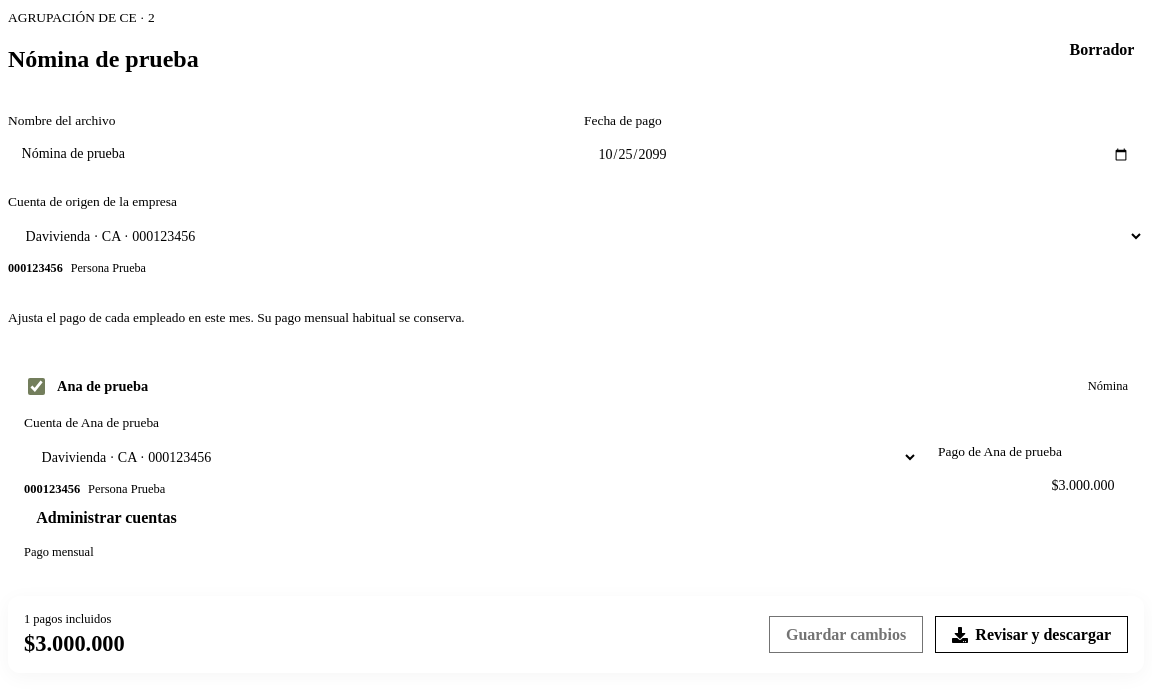
Preparación bancaria › preserva el importe cuando el servidor rechaza el guardado
Replace the text in the field labelled "Pago de Ana de prueba" with "3100000" at (1033,486), box x1=938 y1=468 x2=1128 y2=504
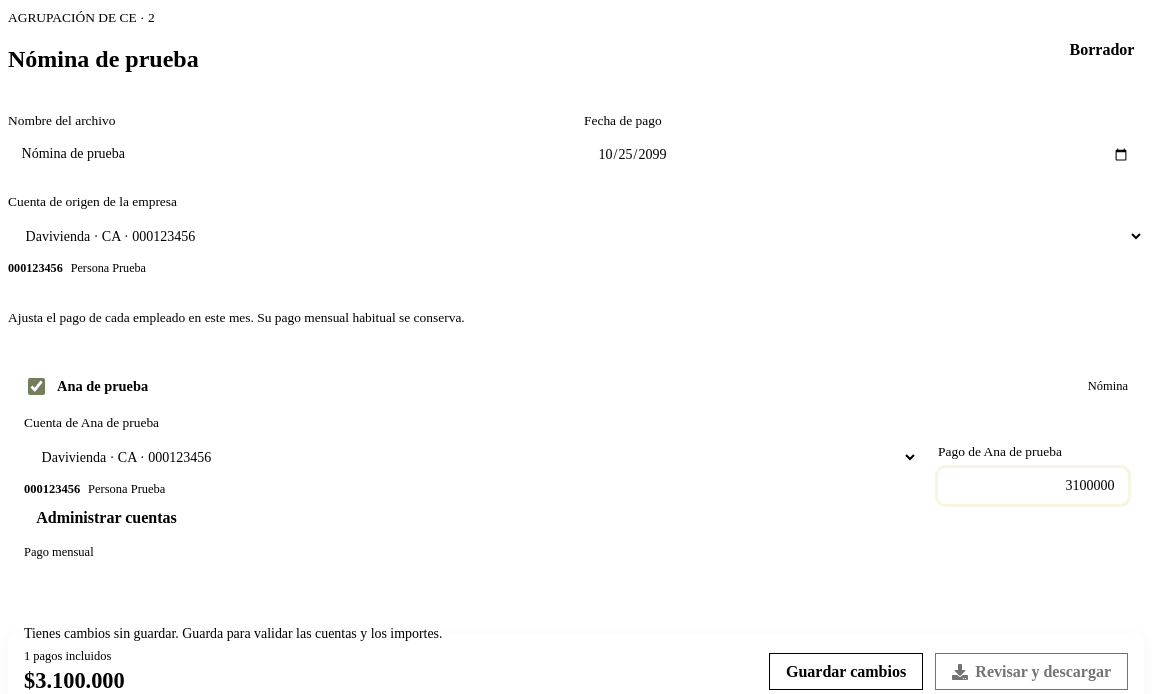
Click the button "Guardar cambios" at (846,672), box x1=769 y1=653 x2=923 y2=690
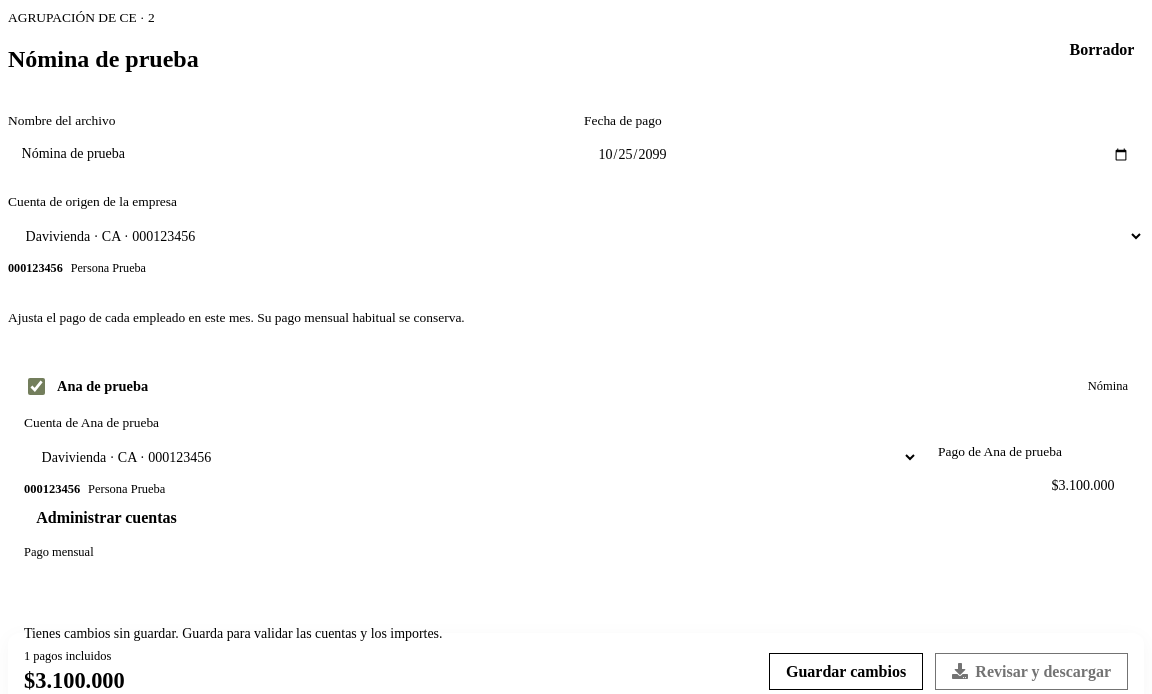
Now the field labelled "Pago de Ana de prueba" holds "$3.100.000", box x1=938 y1=468 x2=1128 y2=504
